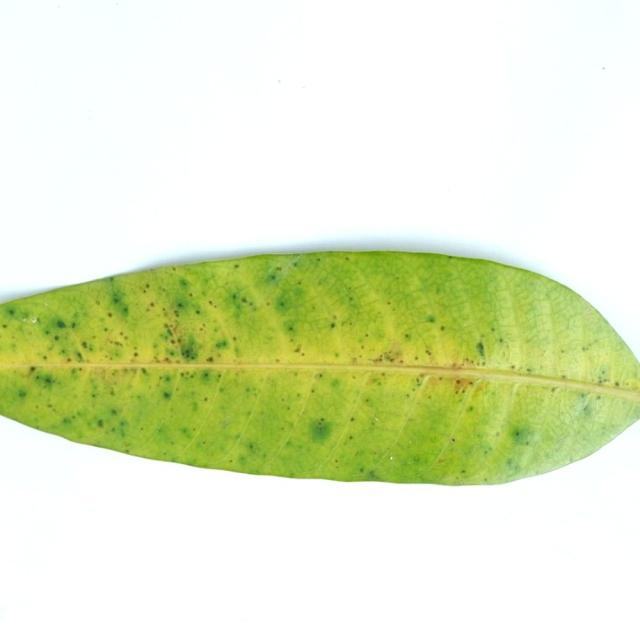Mango: (0, 252, 639, 484)
Powdery_Mildew: (495, 403, 555, 467), (174, 331, 204, 361), (225, 289, 253, 314), (108, 286, 129, 314), (309, 419, 332, 442), (372, 350, 401, 364), (565, 312, 586, 331), (272, 297, 292, 313), (197, 371, 218, 386), (36, 373, 55, 388), (347, 355, 368, 365), (581, 402, 594, 417), (476, 341, 486, 359), (215, 338, 228, 350), (267, 273, 279, 283), (55, 319, 67, 329), (366, 470, 379, 479), (286, 469, 299, 478), (413, 378, 423, 389), (597, 374, 608, 384), (4, 308, 16, 317), (17, 389, 27, 399), (425, 315, 436, 323), (162, 390, 171, 399), (28, 366, 37, 375), (550, 386, 560, 394), (175, 301, 184, 309), (96, 419, 104, 428), (81, 340, 89, 349), (293, 345, 302, 353), (111, 409, 119, 417), (169, 338, 177, 346), (163, 356, 172, 363), (509, 364, 517, 370), (330, 322, 336, 329), (144, 284, 150, 291), (490, 325, 496, 332), (582, 345, 589, 351), (614, 381, 621, 387), (195, 309, 201, 315), (54, 334, 60, 340), (124, 448, 130, 454), (483, 476, 489, 482), (526, 368, 533, 373), (561, 374, 568, 379), (404, 333, 410, 338), (208, 300, 213, 306), (41, 355, 47, 360), (234, 263, 240, 268), (119, 331, 125, 336), (498, 338, 504, 343), (133, 352, 139, 357), (344, 256, 350, 261), (439, 325, 445, 330), (66, 357, 72, 362), (319, 417, 325, 422), (149, 302, 155, 307), (171, 266, 177, 271), (107, 312, 113, 317), (274, 358, 280, 363), (425, 350, 431, 355), (597, 394, 602, 400), (332, 314, 337, 319), (249, 444, 254, 449), (103, 327, 108, 332), (359, 467, 364, 472), (95, 300, 100, 305), (461, 469, 466, 474), (352, 375, 357, 380), (311, 389, 316, 394), (495, 431, 500, 436), (276, 267, 282, 271), (266, 301, 270, 306), (2, 324, 7, 328), (349, 435, 353, 440), (350, 417, 355, 421), (414, 356, 418, 361), (334, 458, 338, 463), (451, 438, 456, 442), (365, 333, 369, 337), (360, 345, 364, 349), (204, 397, 208, 401), (387, 301, 391, 305), (202, 440, 206, 444), (229, 460, 233, 463)
